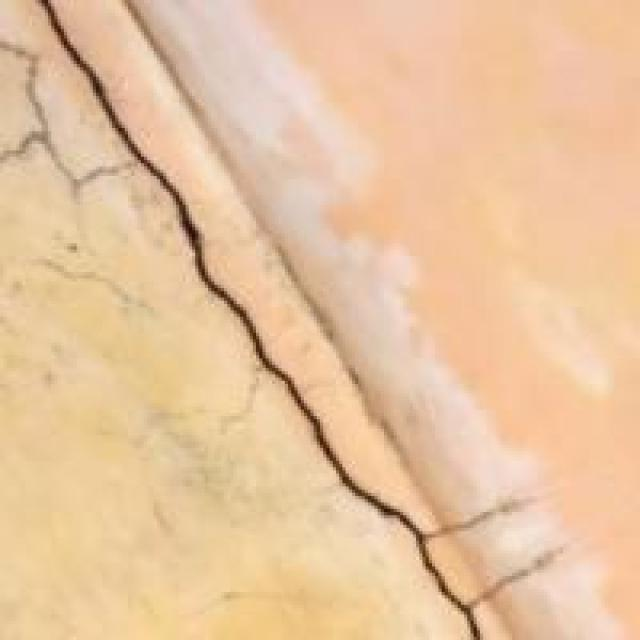crack: (16, 0, 509, 637)
